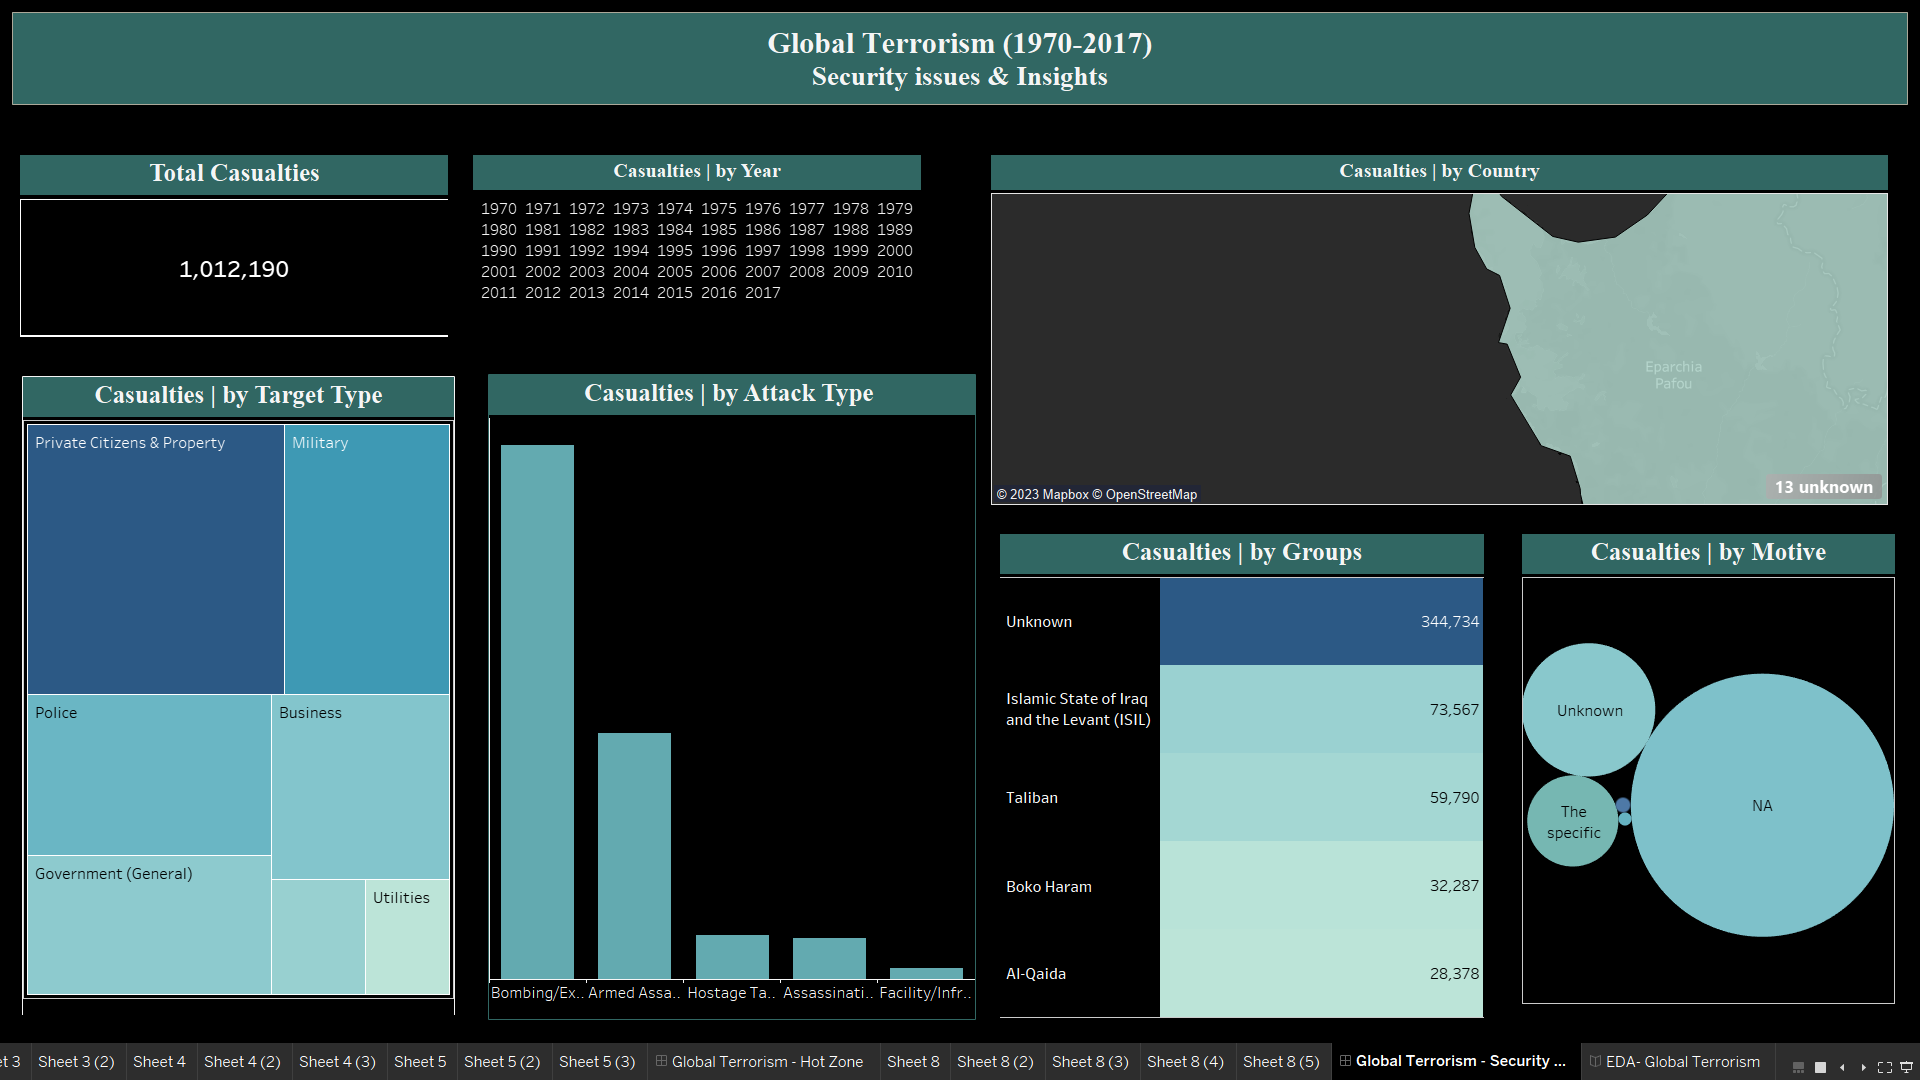

Layout of this report page (visuals, bound fields, positions):
{"tool":"tableau","page":{"name":"Global Terrorism - Security and insights","canvas":[1000,1000],"units":"permille","ordinal":1},"visuals":[{"type":"title","box":[4.2,7.7,991.7,96.8]},{"type":"worksheet","title":"Sheet 4 (2)","mark":"Automatic","box":[245.6,147.5,234.2,176.5]},{"type":"worksheet","title":"Sheet 5","mark":"Automatic","box":[9.7,148.7,223.9,174.2]},{"type":"worksheet","title":"Sheet 4 (3)","mark":"Automatic","box":[516,148.7,467.1,335.7]},{"type":"worksheet","title":"Sheet 8","mark":"Automatic","rows":["Casualties"],"cols":["AttackType"],"box":[254.1,358.9,254.1,619.1]},{"type":"worksheet","title":"Sheet 8 (2)","mark":"Automatic","box":[11.5,360.1,225.7,613.2]},{"type":"worksheet","title":"Sheet 8 (4)","mark":"Square","rows":["Group"],"box":[520.2,511,252.9,466.9]},{"type":"worksheet","title":"Sheet 8 (5)","mark":"Circle","box":[792.2,511,195.2,453]}]}

Visuals, with their boxes on the dashboard's canvas, which has no fixed pixel size, in thousandths of its width and height (x1, y1, x2, y2). These are canvas units, not pixel positions in the 1920x1080 screenshot, which may show the page scaled, cropped or inside an application window:
title: x1=4 y1=8 x2=996 y2=104
"Sheet 4 (2)" worksheet: x1=246 y1=148 x2=480 y2=324
"Sheet 5" worksheet: x1=10 y1=149 x2=234 y2=323
"Sheet 4 (3)" worksheet: x1=516 y1=149 x2=983 y2=484
"Sheet 8" worksheet: x1=254 y1=359 x2=508 y2=978
"Sheet 8 (2)" worksheet: x1=12 y1=360 x2=237 y2=973
"Sheet 8 (4)" worksheet (Square marks): x1=520 y1=511 x2=773 y2=978
"Sheet 8 (5)" worksheet (Circle marks): x1=792 y1=511 x2=987 y2=964
